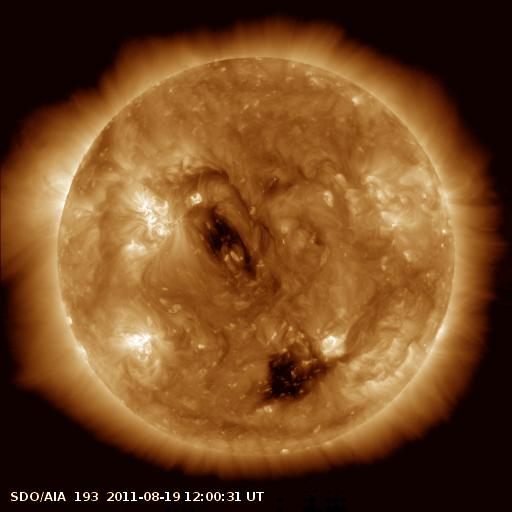coronal_hole: (255, 351, 338, 405), (205, 207, 257, 276)
